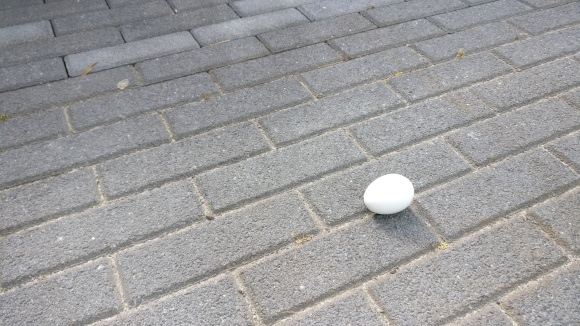egg: (364, 173, 414, 216)
